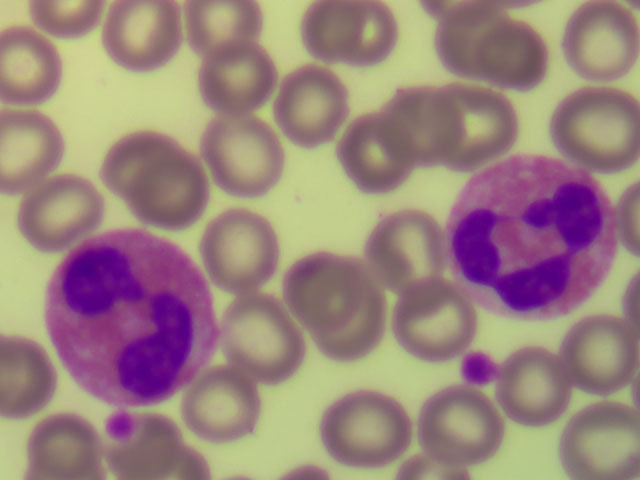Platelets: (466, 354, 495, 381), (106, 413, 133, 437)
RBC: (204, 205, 286, 289), (558, 90, 639, 168), (439, 78, 519, 156), (419, 394, 504, 465), (226, 302, 299, 381), (389, 90, 464, 166), (287, 250, 358, 329), (397, 285, 471, 359), (324, 392, 405, 459), (564, 2, 636, 77), (368, 217, 445, 287), (201, 44, 279, 113), (319, 278, 385, 359), (285, 262, 362, 331), (209, 118, 282, 189), (434, 9, 507, 78), (566, 410, 640, 478), (567, 320, 637, 391), (133, 159, 207, 226), (505, 347, 569, 424), (352, 119, 417, 194), (23, 181, 95, 246), (108, 3, 177, 68), (286, 74, 345, 149), (110, 139, 185, 197), (485, 18, 546, 89), (5, 114, 60, 191), (201, 373, 263, 441), (1, 32, 61, 101), (1, 338, 52, 418), (33, 423, 102, 480), (302, 3, 362, 63), (338, 5, 398, 60), (187, 4, 258, 46), (27, 1, 100, 28), (619, 184, 640, 249), (392, 466, 470, 480), (287, 465, 331, 480), (629, 272, 639, 324)
WBC: (52, 234, 207, 396), (456, 168, 604, 310)
